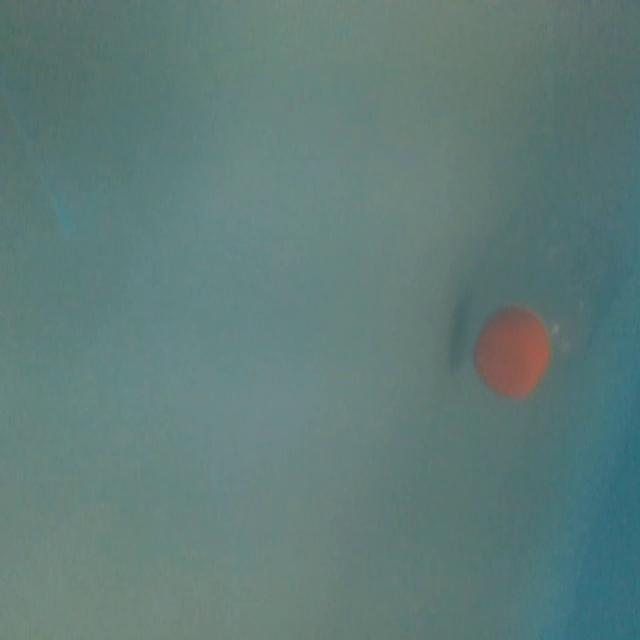plastic bottle: (444, 148, 640, 403)
